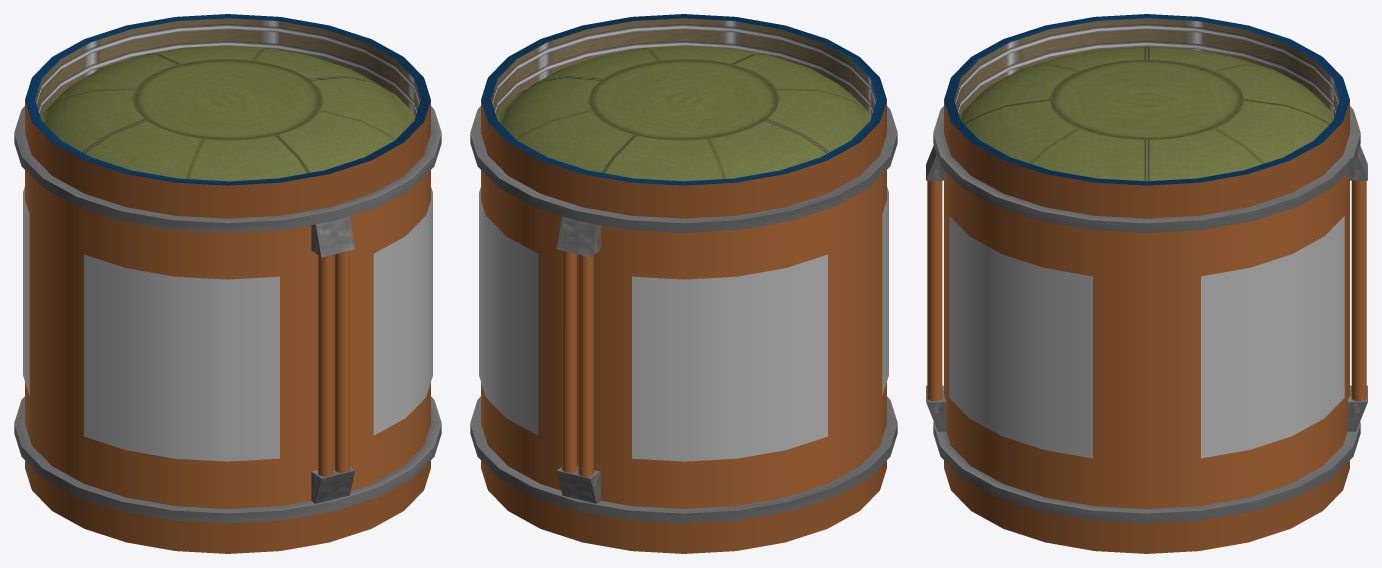
Rendered from FLM-7200.FBX.
3 views of the same model, side by side, from view 1: azimuth 30°, elevation 25°; view 2: azimuth 150°, elevation 25°; view 3: azimuth 270°, elevation 25° (orthographic).
Parts seen in each view (by area): view 1: TankBody, EndCap001, decalPanel004, TankSleeve001, TankSleeve002, decalPanel001, BarrelBand003, BarrelBand002, FuelPipe001, FuelPipe002, FuelPlug001, decalPanel003 (+1 smaller); view 2: TankBody, EndCap001, decalPanel003, TankSleeve001, TankSleeve002, decalPanel002, BarrelBand003, BarrelBand002, FuelPipe003, FuelPipe004, FuelPlug003, decalPanel004 (+1 smaller); view 3: TankBody, EndCap001, TankSleeve001, decalPanel001, decalPanel002, TankSleeve002, BarrelBand003, BarrelBand002, FuelPipe002, FuelPipe004, FuelPlug002, FuelPlug004.
Boxes of the visible parts, x1,y1,x2,y2 form: TankBody: [25, 170, 430, 508]; EndCap001: [40, 45, 415, 181]; decalPanel004: [84, 254, 279, 461]; TankSleeve001: [25, 14, 430, 218]; TankSleeve002: [25, 460, 430, 553]; decalPanel001: [373, 187, 432, 435]; BarrelBand003: [14, 106, 441, 232]; BarrelBand002: [14, 396, 441, 523]; FuelPipe001: [318, 254, 333, 476]; FuelPipe002: [334, 250, 349, 472]; FuelPlug001: [311, 216, 355, 257]; decalPanel003: [23, 186, 29, 395]; TankBody: [481, 170, 886, 508]; EndCap001: [496, 45, 871, 181]; decalPanel003: [632, 254, 827, 461]; TankSleeve001: [481, 14, 886, 218]; TankSleeve002: [481, 460, 886, 553]; decalPanel002: [479, 187, 538, 435]; BarrelBand003: [470, 106, 897, 232]; BarrelBand002: [470, 396, 897, 523]; FuelPipe003: [578, 254, 593, 476]; FuelPipe004: [562, 250, 577, 472]; FuelPlug003: [556, 216, 600, 257]; decalPanel004: [882, 186, 888, 395]; TankBody: [944, 172, 1349, 508]; EndCap001: [959, 46, 1334, 181]; TankSleeve001: [944, 14, 1349, 218]; decalPanel001: [949, 216, 1092, 458]; decalPanel002: [1201, 216, 1344, 458]; TankSleeve002: [944, 460, 1349, 553]; BarrelBand003: [933, 106, 1360, 232]; BarrelBand002: [933, 421, 1360, 523]; FuelPipe002: [927, 180, 942, 400]; FuelPipe004: [1351, 180, 1366, 400]; FuelPlug002: [926, 385, 946, 431]; FuelPlug004: [1347, 385, 1367, 431].
Size of what is drawn, in the model's own units: 3.95 by 4.08 by 3.75.
